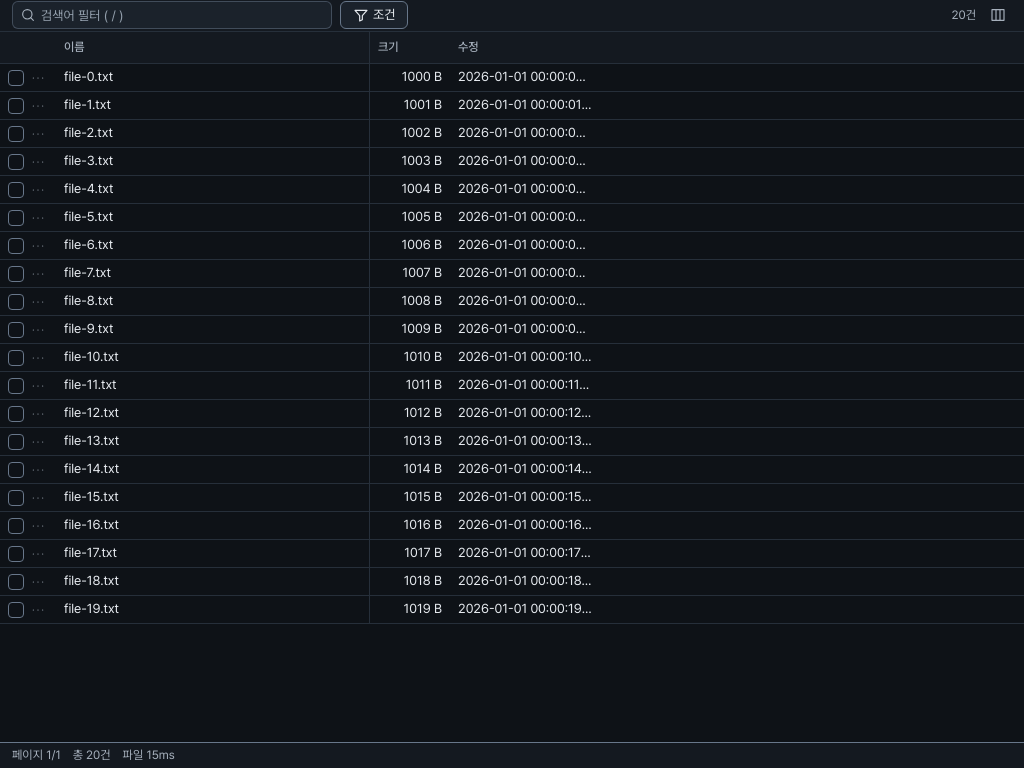
it: responsive default columns (files, 분석 기본) › hides the lowest-priority columns on a narrow grid and lists them in the 열 menu
Step 1. Click the button named "열 설정" → (998, 15), box x1=984 y1=1 x2=1012 y2=29
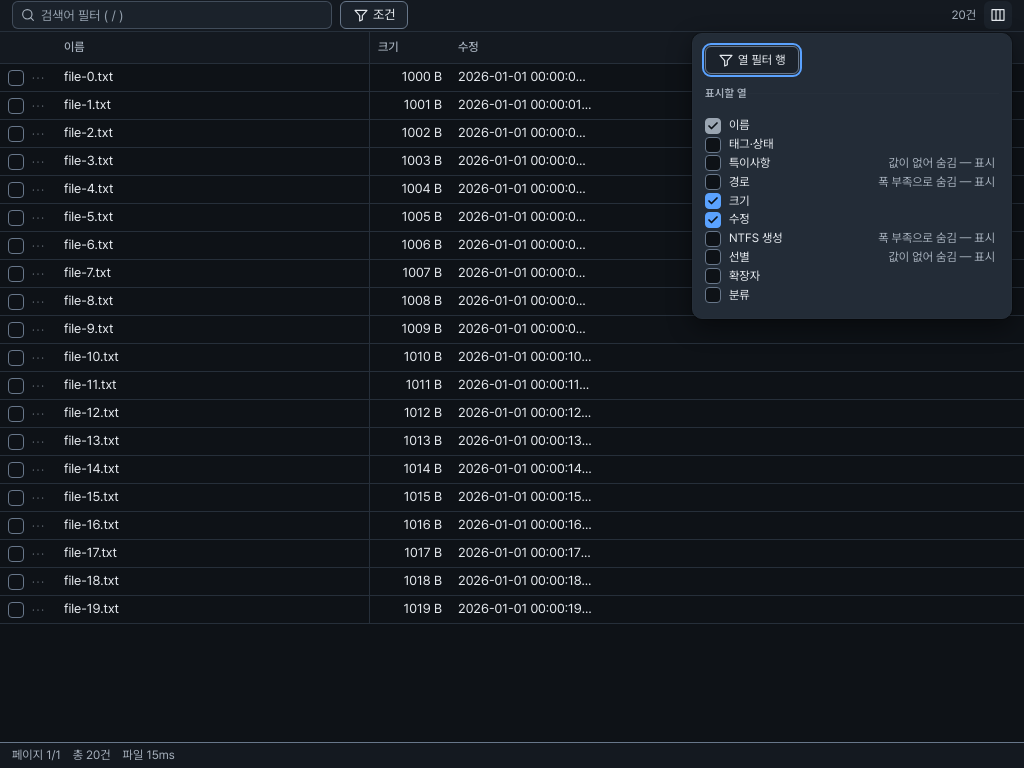
Expected: the element with test id "grid-autohidden-path" shows "폭 부족으로 숨김 — 표시", x1=705 y1=174 x2=999 y2=191
Expected: the checkbox labelled "경로" is not checked, x1=705 y1=174 x2=721 y2=190
Step 2. Click the button with aria-label "경로 표시 (폭 부족으로 숨김)" → (937, 182), box x1=874 y1=174 x2=999 y2=191
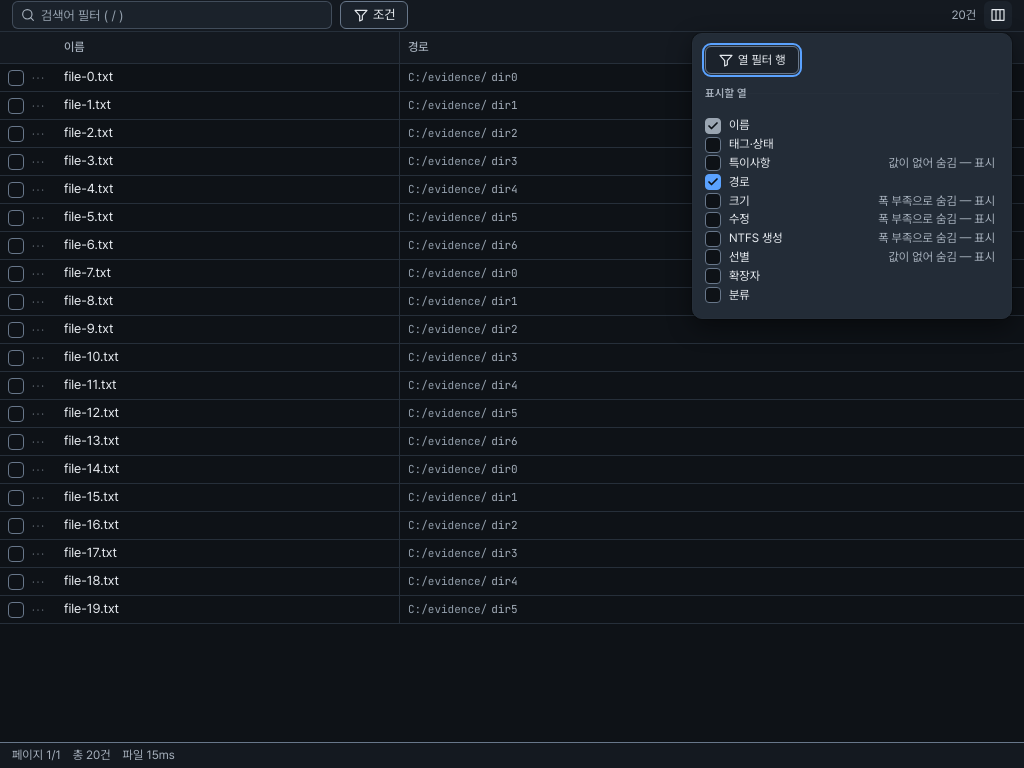
Expected: the element with test id "grid-autohidden-path" is gone
Expected: the element with test id "grid-autohidden-size" is shown, x1=705 y1=193 x2=999 y2=209
